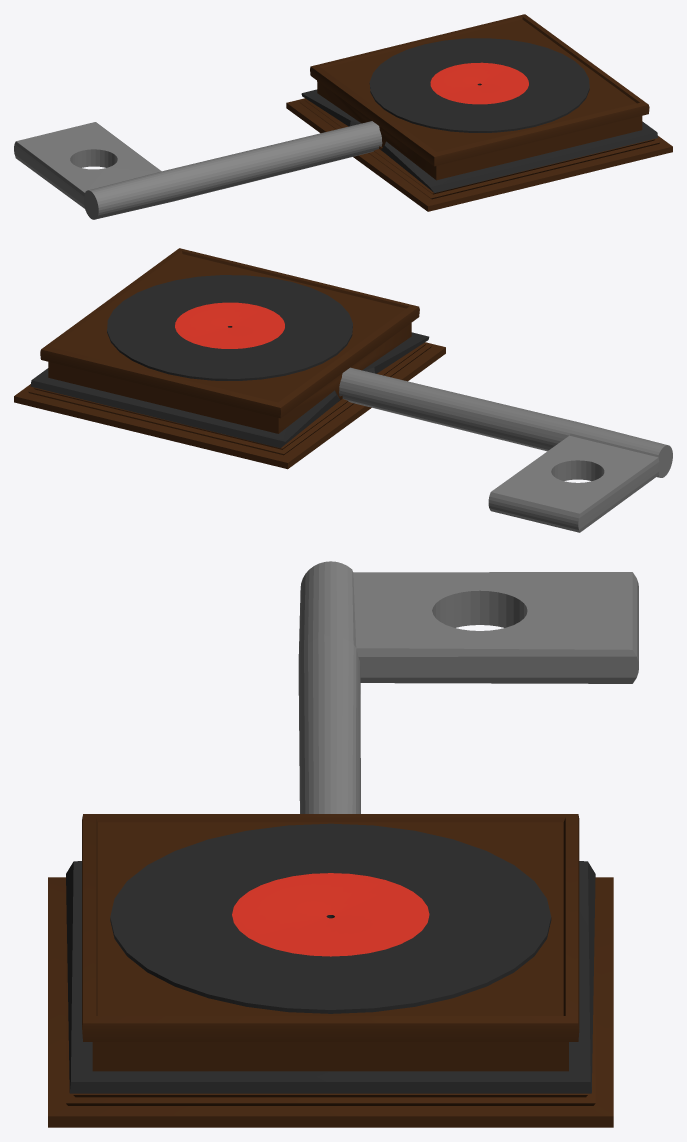
The model's file is PatephoneKey_1.fbx.
The picture shows the model from 3 angles, top to bottom: view 1: azimuth 30°, elevation 25°; view 2: azimuth 150°, elevation 25°; view 3: azimuth 270°, elevation 25°; orthographic projection. The views are drawn at different scales.
Visible parts, largest first — view 1: Cube.004; view 2: Cube.004; view 3: Cube.004.
Boxes of the visible parts, bbox=[...] form: Cube.004: bbox=[14, 14, 672, 219]; Cube.004: bbox=[14, 248, 672, 532]; Cube.004: bbox=[48, 561, 638, 1127].
Size of the model in its own units: 483 by 42.06 by 242.
